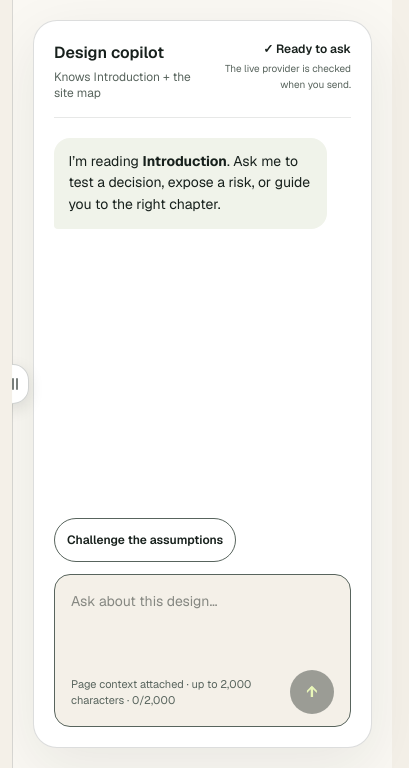
ChatPanel service states › shows malformed responses as unavailable instead of an assistant answer
Type "Review this" into the text box named "Ask about Introduction" at coordinates (202, 623), box left=63, top=583, right=342, bottom=663
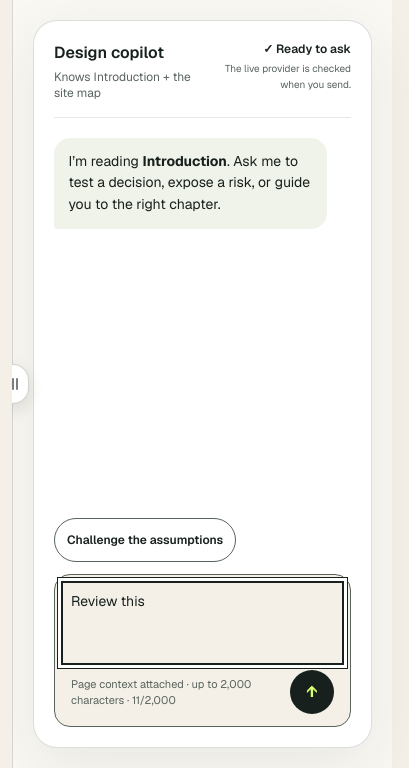
Click the button named "Send question" at coordinates (312, 692), box left=290, top=670, right=334, bottom=714
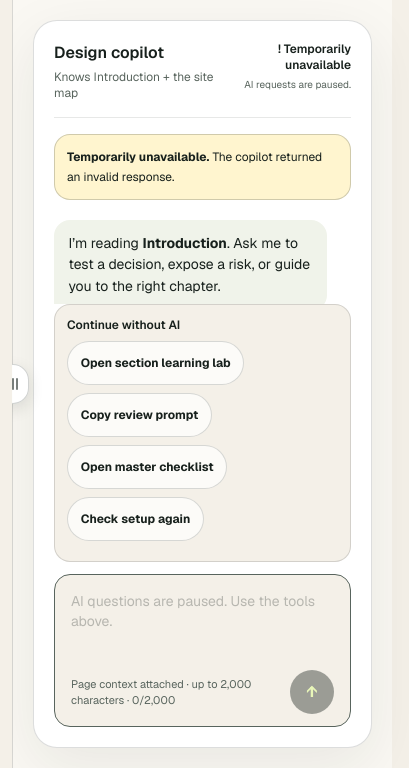
Check: the message shows "invalid response", box left=67, top=149, right=322, bottom=185
